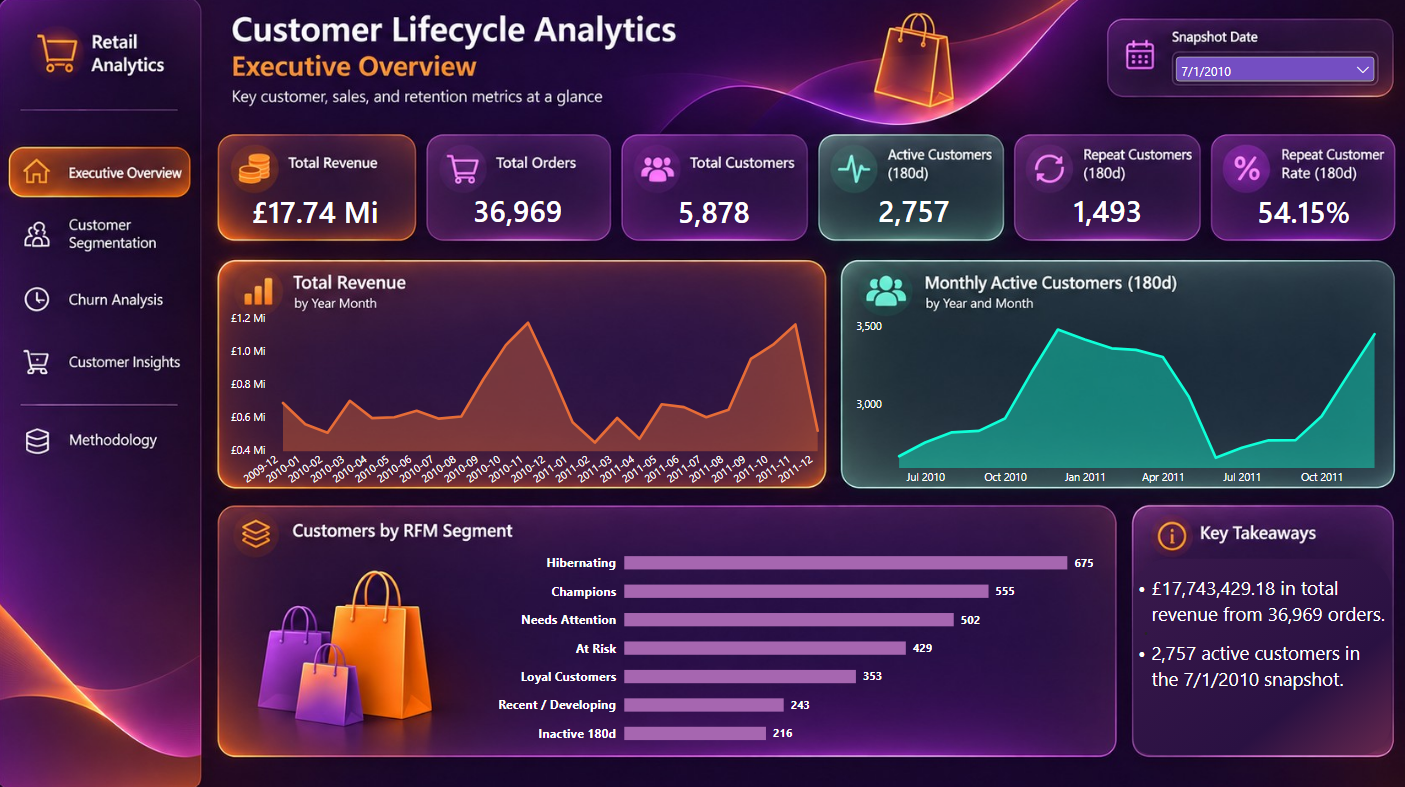

What the dashboard file says about the page in this screenshot:
{"tool":"powerbi","page":{"name":"Executive Overview","canvas":[1600,900],"ordinal":0},"visuals":[{"type":"slicer","fields":{"Values":["Dim Snapshot.Snapshot Date"]},"box":[1331.1,58.9,234.4,42.2],"z":0},{"type":"cardVisual","fields":{"Data":["Measures-.Active Customers (180d)"]},"box":[933.5,205.1,209,64],"z":1000},{"type":"cardVisual","fields":{"Data":["Measures-.Repeat Customer Rate (180d)"]},"box":[1375.3,206.6,209,64],"z":2000},{"type":"cardVisual","fields":{"Data":["Measures-.Repeat Customers (180d)"]},"box":[1153.7,205.1,209,64],"z":3000},{"type":"cardVisual","fields":{"Data":["Measures-.Total Customers"]},"box":[707.3,206.6,209,64],"z":4000},{"type":"cardVisual","fields":{"Data":["Measures-.Total Orders"]},"box":[484.1,205.1,209.6,64.8],"z":5000},{"type":"cardVisual","fields":{"Data":["Measures-.Total Revenue"]},"box":[254.9,206.6,209,64],"z":6000},{"type":"areaChart","fields":{"Category":["Dim Date.Year Month"],"Y":["Measures-.Total Revenue"]},"box":[247.3,337.8,707.3,242.8],"z":7000},{"type":"areaChart","fields":{"Category":["Dim Snapshot.Snapshot Date"],"Y":["Measures-.Monthly Active Customers"]},"box":[956.1,328.8,643.9,241.3],"z":8000},{"type":"barChart","fields":{"Category":["RFM Segments.rfm_segment"],"Y":["Measures-.Customers by RFM Segment"]},"box":[550,595,708.3,273.3],"z":9000},{"type":"textbox","box":[1289.3,652,286.7,204],"z":10000},{"type":"actionButton","box":[25.6,242.8,176.4,42.2],"z":10002},{"type":"actionButton","box":[25.6,324.2,191.5,33.2],"z":10003},{"type":"actionButton","box":[22.6,484.1,179.5,33.2],"z":10004},{"type":"actionButton","box":[25.6,398.1,191.5,33.2],"z":10005}]}

Visuals, with their boxes in screenshot pixels (x1, y1, x2, y2), scaled from the page's 1600x900 canvas onto the 1405x787 screenshot:
slicer - Dim Snapshot.Snapshot Date: x1=1169, y1=52, x2=1375, y2=88
cardVisual - Measures-.Active Customers (180d): x1=820, y1=179, x2=1003, y2=235
cardVisual - Measures-.Repeat Customer Rate (180d): x1=1208, y1=181, x2=1391, y2=237
cardVisual - Measures-.Repeat Customers (180d): x1=1013, y1=179, x2=1197, y2=235
cardVisual - Measures-.Total Customers: x1=621, y1=181, x2=805, y2=237
cardVisual - Measures-.Total Orders: x1=425, y1=179, x2=609, y2=236
cardVisual - Measures-.Total Revenue: x1=224, y1=181, x2=407, y2=237
areaChart - Dim Date.Year Month x Measures-.Total Revenue: x1=217, y1=295, x2=838, y2=508
areaChart - Dim Snapshot.Snapshot Date x Measures-.Monthly Active Customers: x1=840, y1=288, x2=1404, y2=499
barChart - RFM Segments.rfm_segment x Measures-.Customers by RFM Segment: x1=483, y1=520, x2=1105, y2=759
textbox: x1=1132, y1=570, x2=1384, y2=749
actionButton: x1=22, y1=212, x2=177, y2=249
actionButton: x1=22, y1=283, x2=191, y2=313
actionButton: x1=20, y1=423, x2=177, y2=452
actionButton: x1=22, y1=348, x2=191, y2=377
